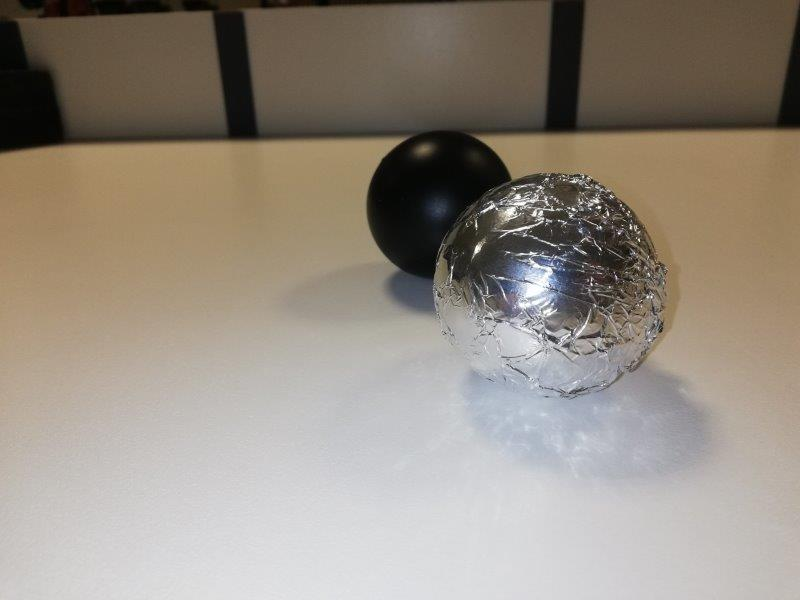bianca: (433, 172, 665, 397)
nera: (367, 128, 512, 280)
